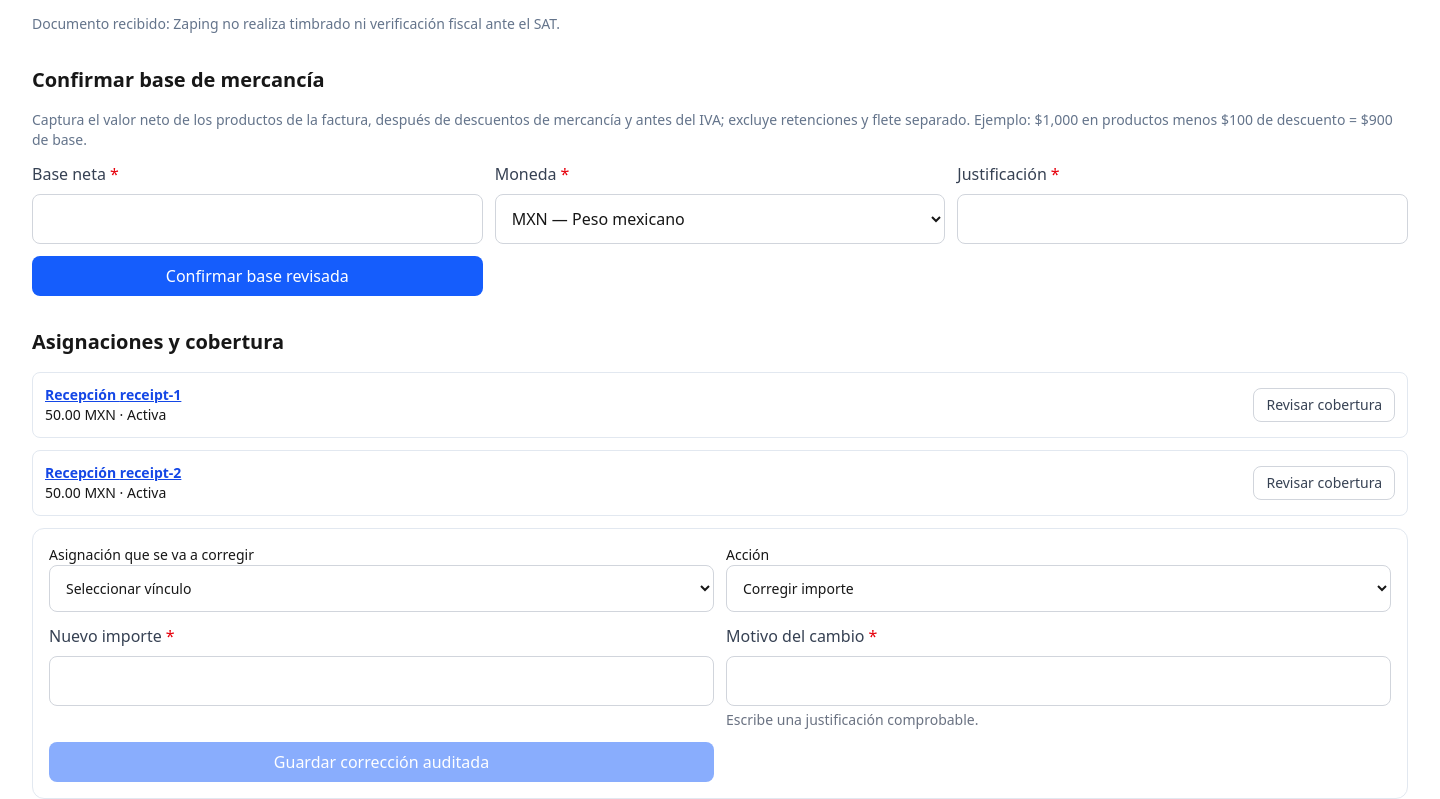
Test case: R2A-03 supplier document detail › ignores a late reconciliation success for a previously selected receipt
The width and height of the screenshot is (1440, 799).
(page scrolled)
What coordinates should you click on to do the following:
click the button "Revisar cobertura" in the row of "receipt-1"
I would click on:
 (1324, 405)
Its box is top-left (1253, 388), bottom-right (1395, 422).
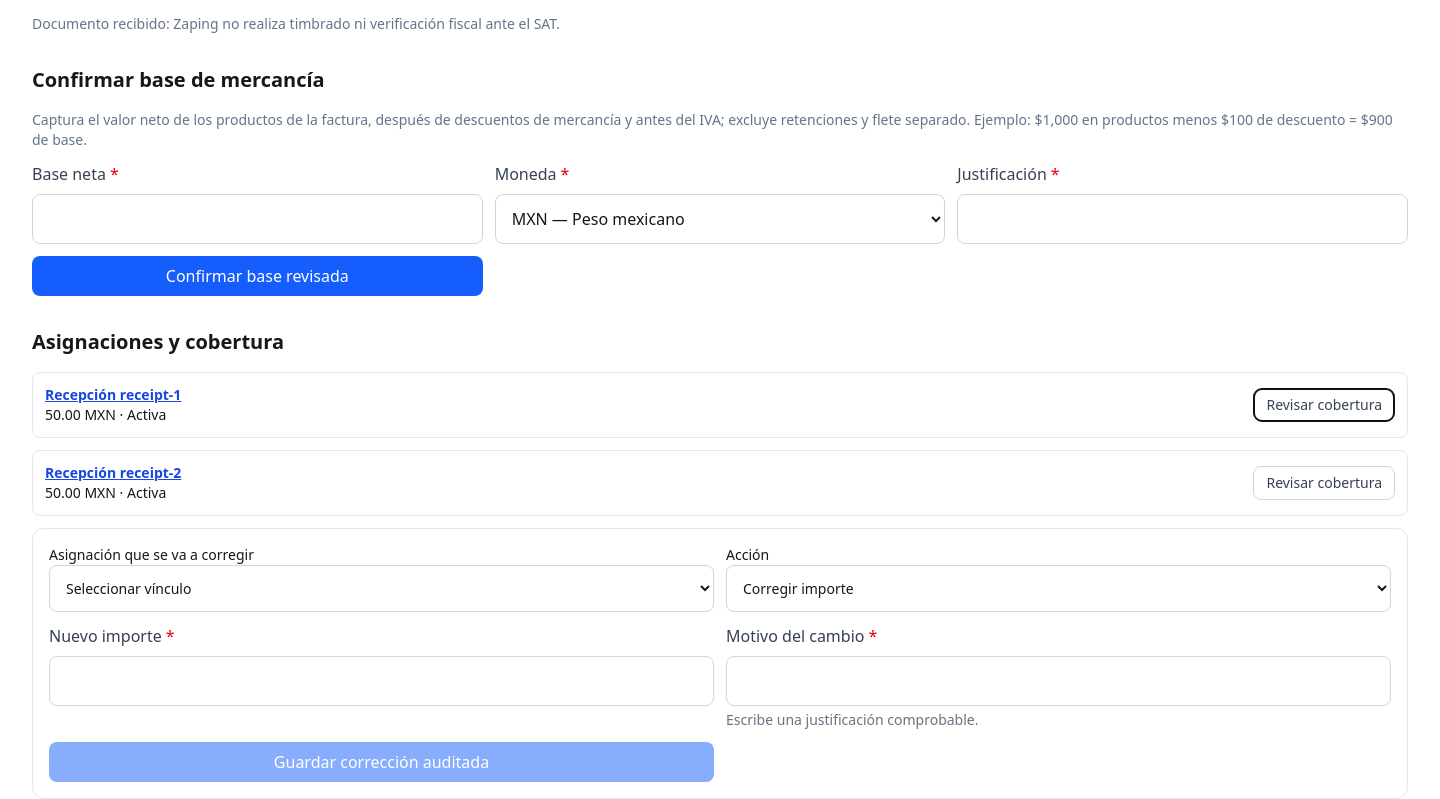
What coordinates should you click on to do the following:
click the button "Revisar cobertura" in the row of "receipt-2"
I would click on:
 (1324, 483)
Its box is top-left (1253, 466), bottom-right (1395, 500).
(page scrolled)
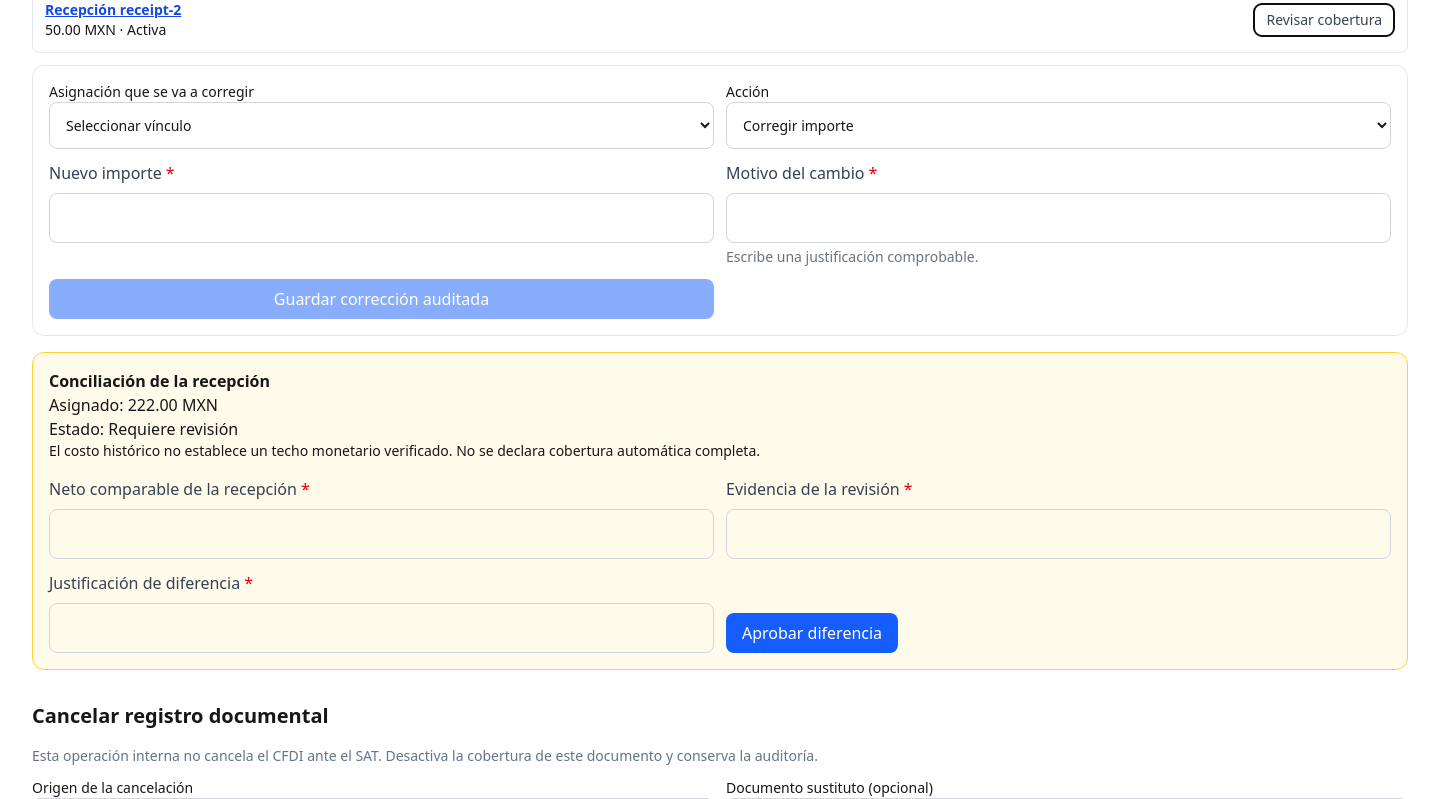
Expected: the text "Asignado: 222.00 MXN" is shown, top-left (49, 394), bottom-right (218, 416)
